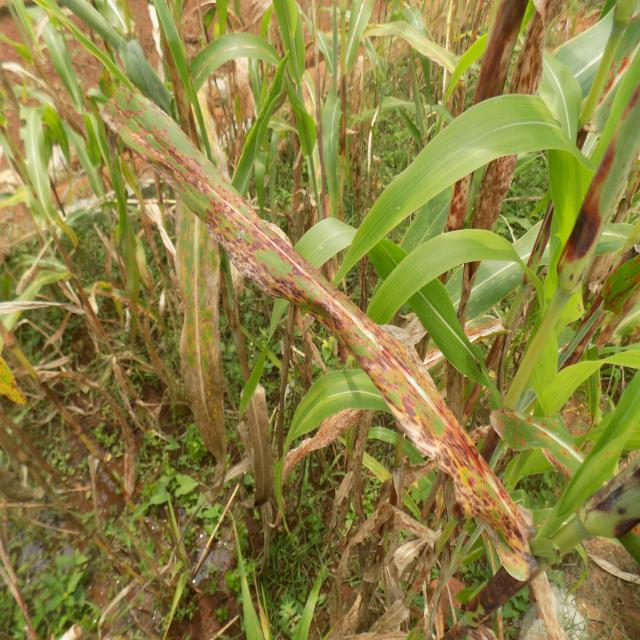millet_healthy: (328, 80, 600, 275), (361, 227, 508, 397), (364, 227, 532, 320), (11, 103, 75, 267), (177, 12, 293, 102), (542, 10, 640, 112), (534, 328, 640, 414), (282, 366, 395, 438), (107, 18, 187, 111), (41, 0, 87, 135)
millet_rust: (94, 55, 540, 577), (280, 302, 498, 479), (159, 154, 239, 496), (488, 394, 640, 502), (366, 522, 432, 640), (316, 499, 371, 640), (270, 394, 363, 470), (581, 13, 640, 126), (239, 370, 276, 503), (402, 500, 449, 564)
